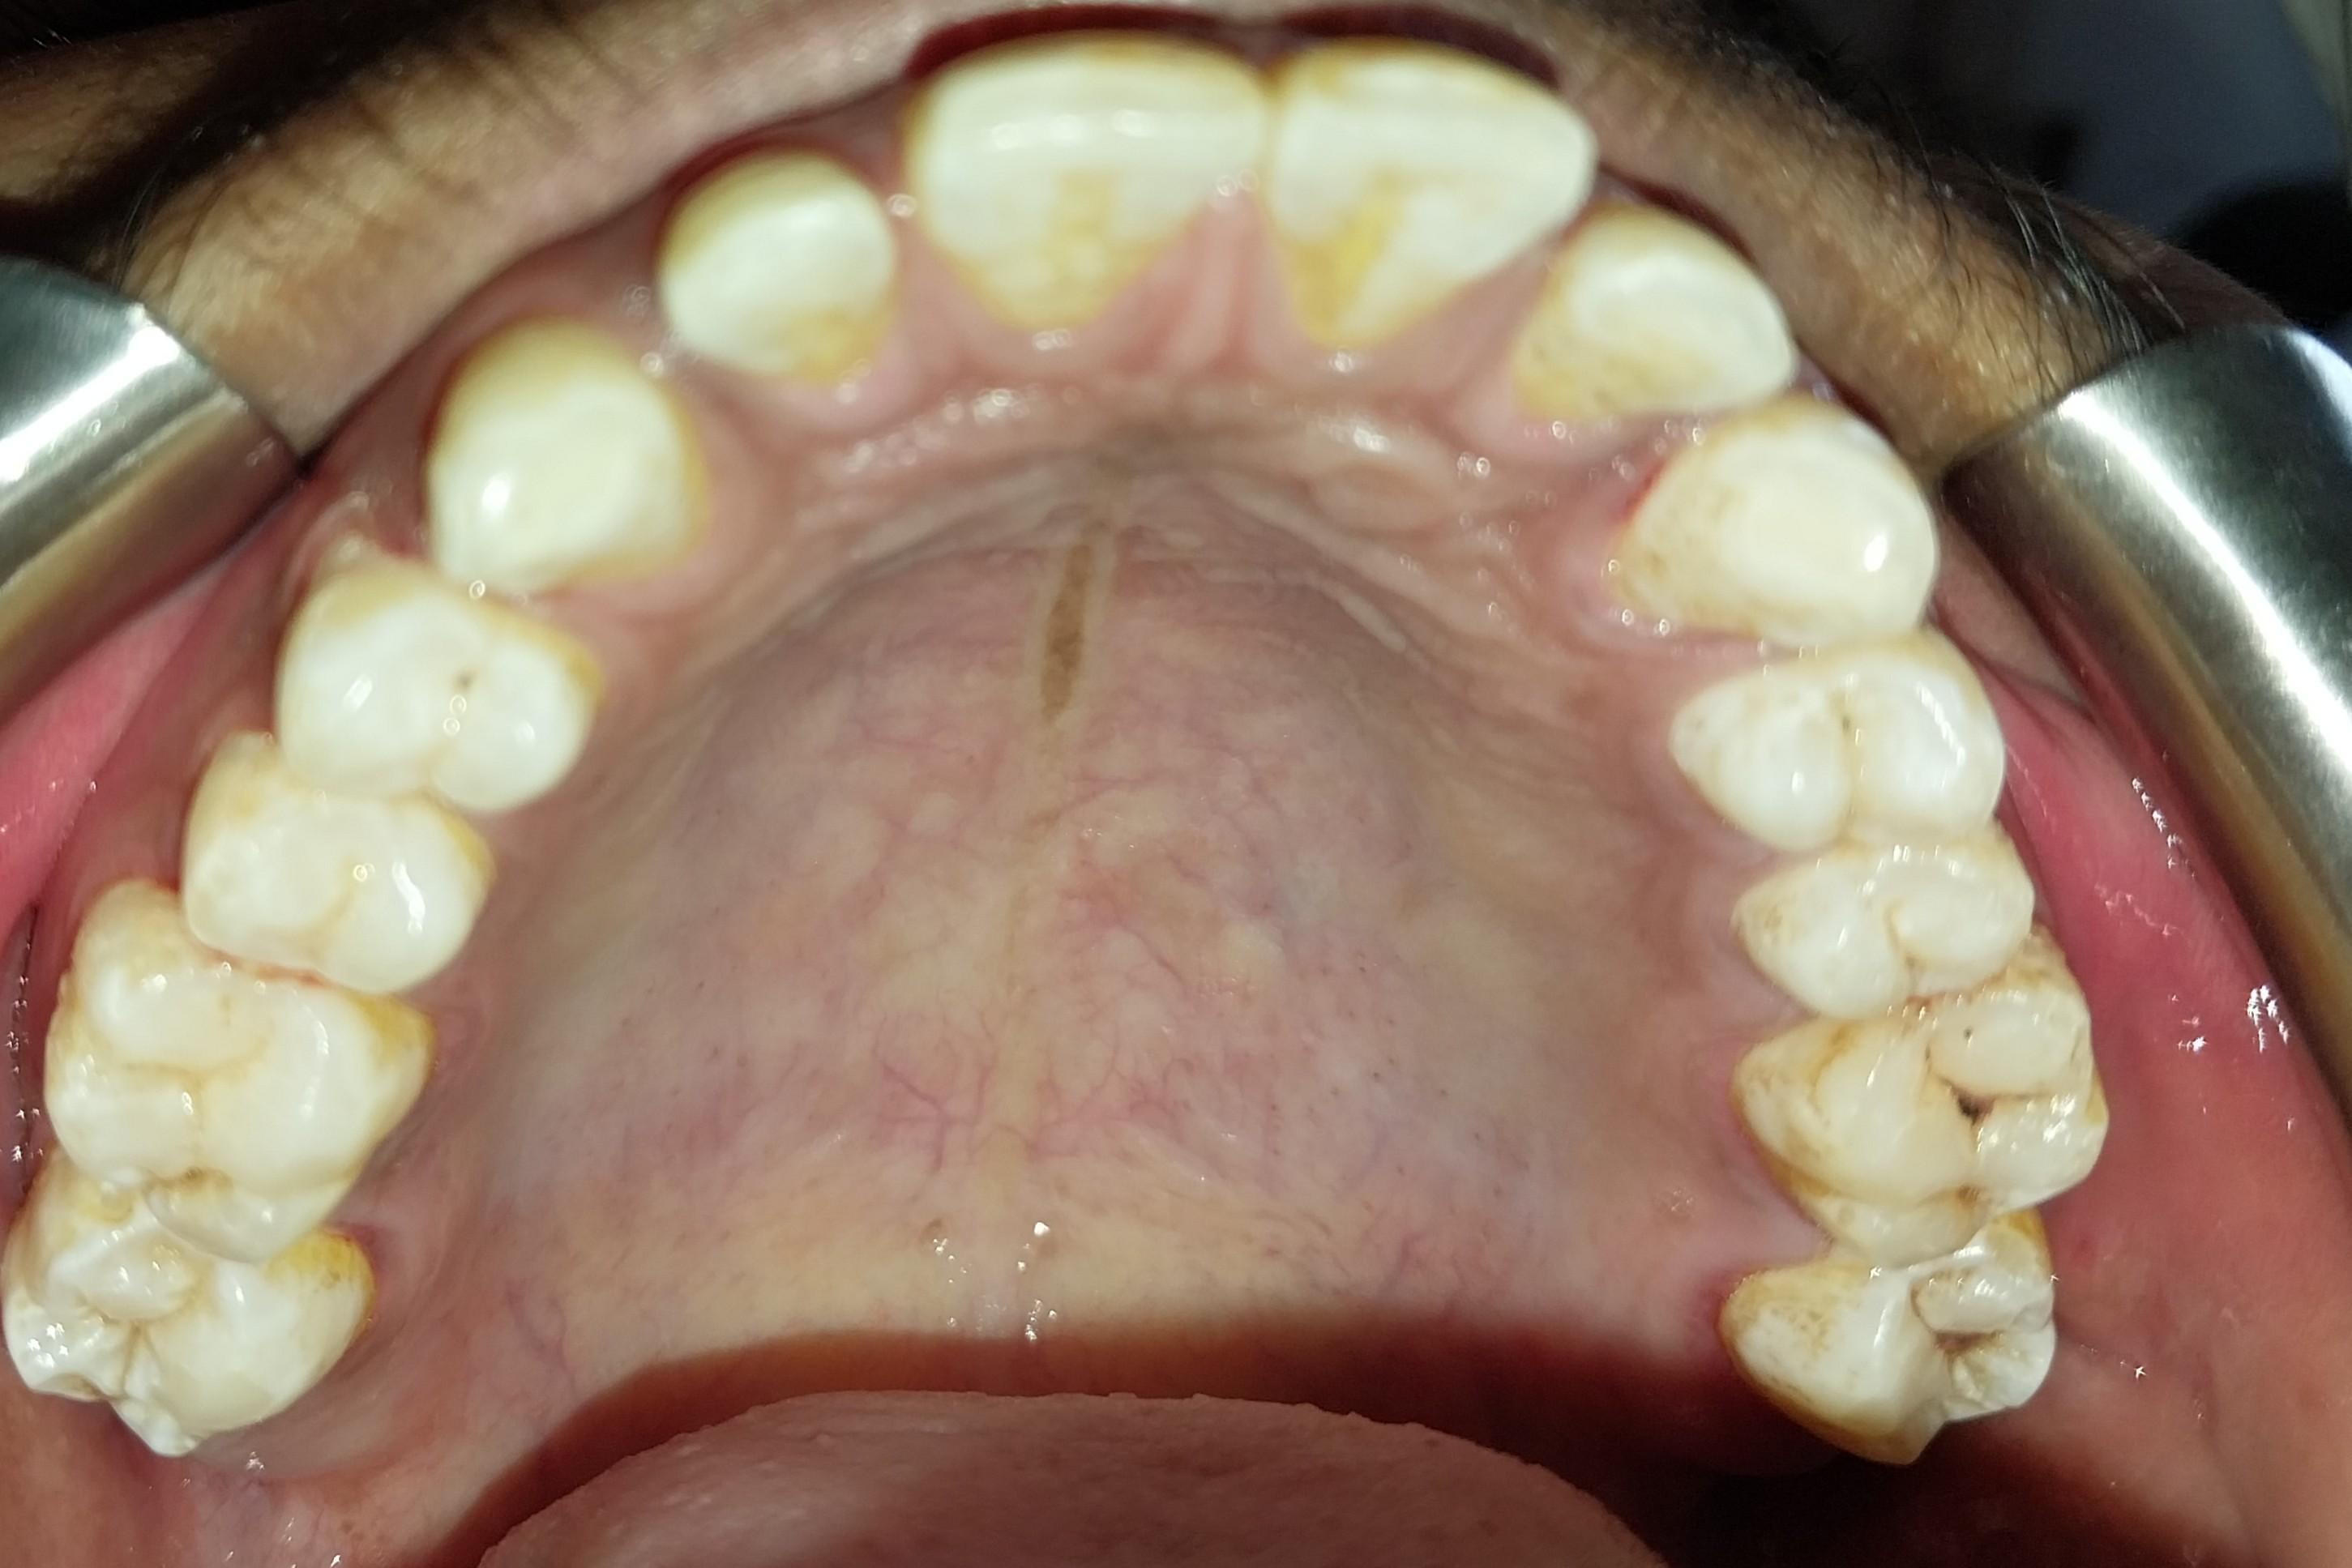D: (1768, 1010, 2097, 1255)
